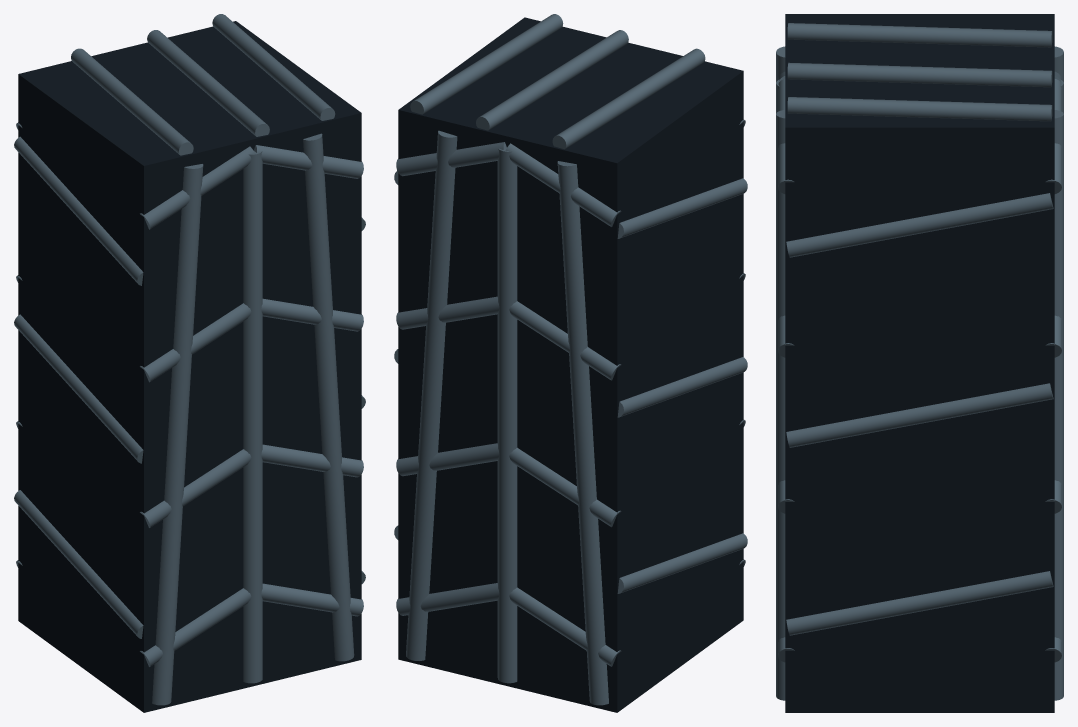
Rendered from CMU3DHiveWallXenoResinQueen.glb.
3 views of the same model, side by side, from view 1: azimuth 30°, elevation 25°; view 2: azimuth 150°, elevation 25°; view 3: azimuth 270°, elevation 25° (orthographic). The views are drawn at different scales.
Visible parts, largest first — view 1: continuous sealed resin core, vertical exoskeletal rib (×3), front and rear sweeping rib (×8), roof rib (×3), finished side rib (×3); view 2: continuous sealed resin core, vertical exoskeletal rib (×3), front and rear sweeping rib (×8), roof rib (×3), finished side rib (×3); view 3: continuous sealed resin core, roof rib (×3), finished side rib (×3), vertical exoskeletal rib (×2), front and rear sweeping rib (×2).
Part boxes in pixels (left/top/right/bottom): continuous sealed resin core: left=18, top=21, right=361, bottom=712; vertical exoskeletal rib (×3): left=152, top=133, right=354, bottom=705; front and rear sweeping rib (×8): left=140, top=145, right=363, bottom=666; roof rib (×3): left=71, top=14, right=335, bottom=155; finished side rib (×3): left=14, top=136, right=143, bottom=638; continuous sealed resin core: left=398, top=17, right=743, bottom=712; vertical exoskeletal rib (×3): left=406, top=130, right=608, bottom=705; front and rear sweeping rib (×8): left=396, top=142, right=621, bottom=666; roof rib (×3): left=410, top=14, right=705, bottom=149; finished side rib (×3): left=617, top=178, right=747, bottom=593; continuous sealed resin core: left=785, top=14, right=1054, bottom=712; roof rib (×3): left=787, top=23, right=1052, bottom=121; finished side rib (×3): left=786, top=193, right=1053, bottom=635; vertical exoskeletal rib (×2): left=776, top=110, right=1063, bottom=700; front and rear sweeping rib (×2): left=778, top=79, right=1061, bottom=193.
Size of the model in its own units: 1.05 by 2.45 by 1.07.
